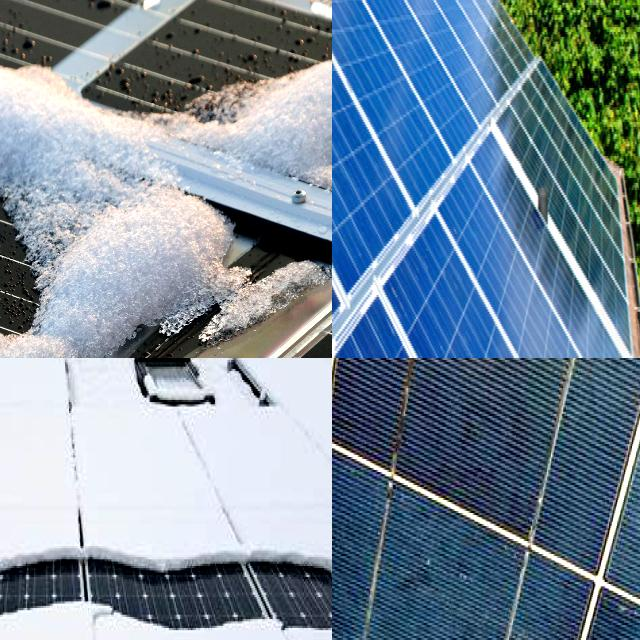crack: (332, 0, 640, 358), (332, 0, 581, 358), (332, 0, 457, 86), (332, 0, 397, 54)
panel: (34, 62, 272, 335), (18, 358, 186, 586), (205, 358, 332, 587), (0, 0, 122, 195), (0, 358, 64, 587), (0, 358, 56, 608), (0, 0, 235, 59), (281, 28, 332, 212)
shadow: (387, 358, 484, 506)
